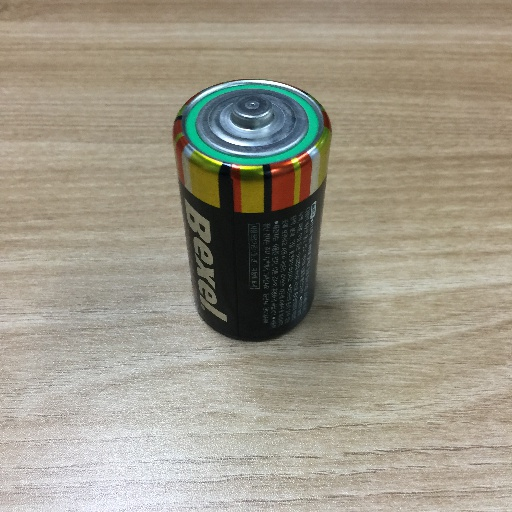Battery_0: (160, 71, 337, 354)
